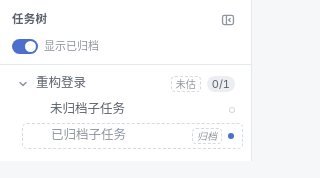
it: Sidebar › 折叠徽标与展开态同一口径：只数未归档子任务
Expected: the button "重构登录" is shown, [36,74,165,93]
Click the button named "折叠「重构登录」" at (23, 84), box [16,76,30,90]
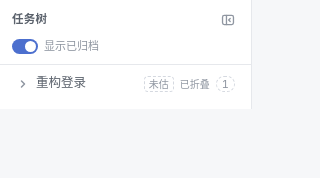
Now the text titled "有 1 个子任务（另有 1 个已归档），当前已折叠" is shown, box [216,76,235,92]
